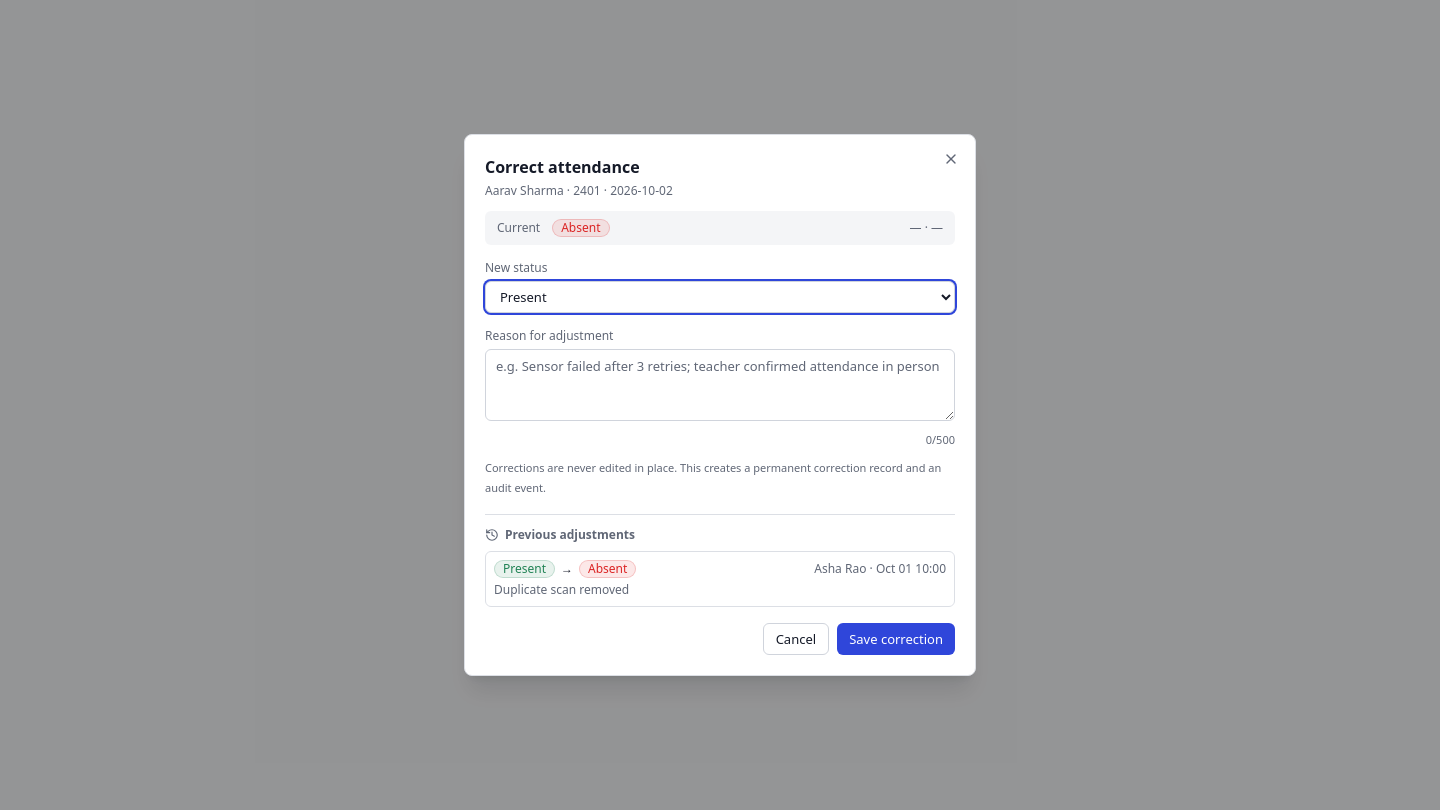
Scenario: CorrectAttendanceDialog › shows previous adjustments and blocks submit without a reason
expect the text "Duplicate scan removed" is shown: met, box [494, 581, 629, 598]
expect the text "Asha Rao · Oct 01 10:00" is shown: met, box [814, 561, 946, 577]
Click the button "Save correction": [896, 639] box [837, 623, 955, 655]
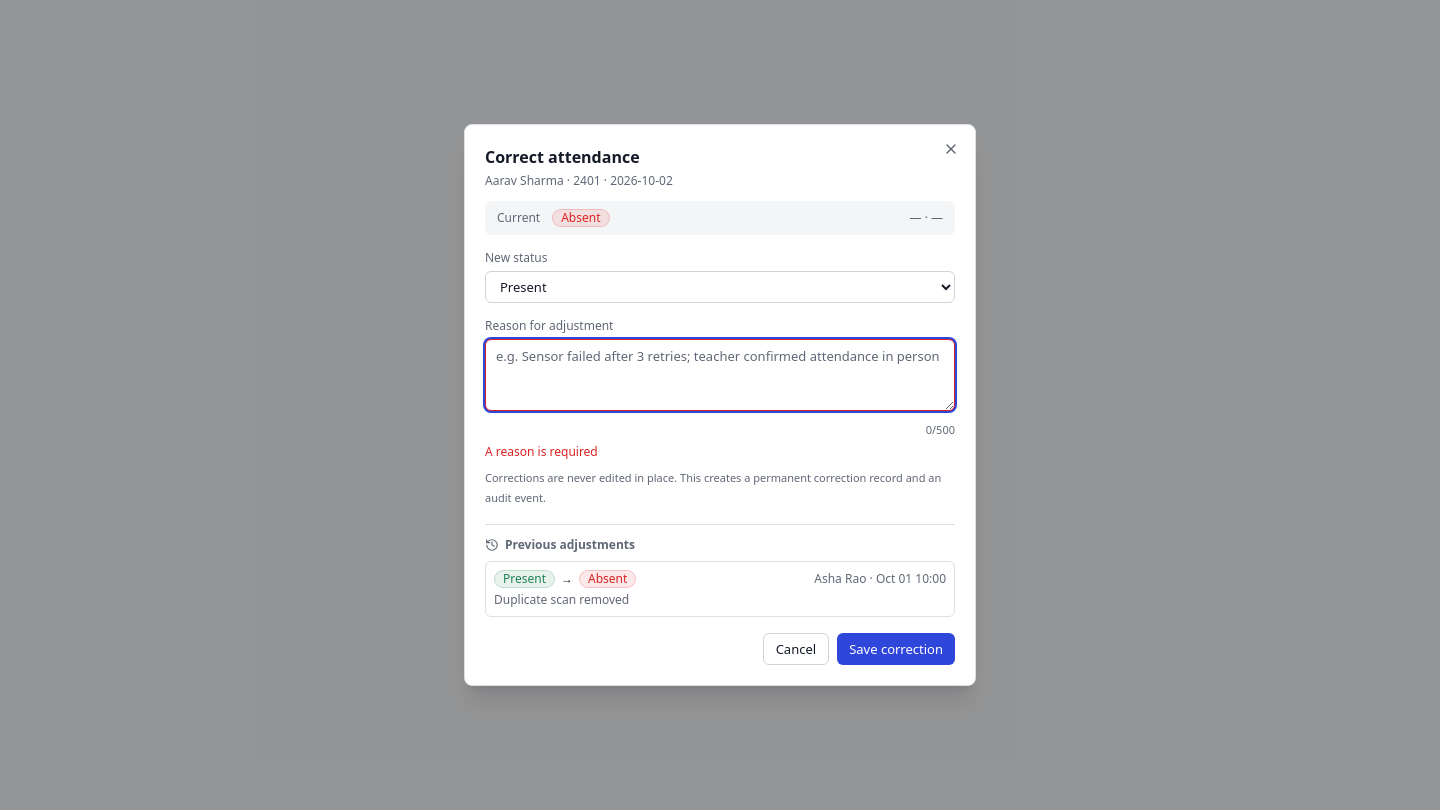
expect the text "A reason is required" is shown: met, box [485, 443, 598, 460]
